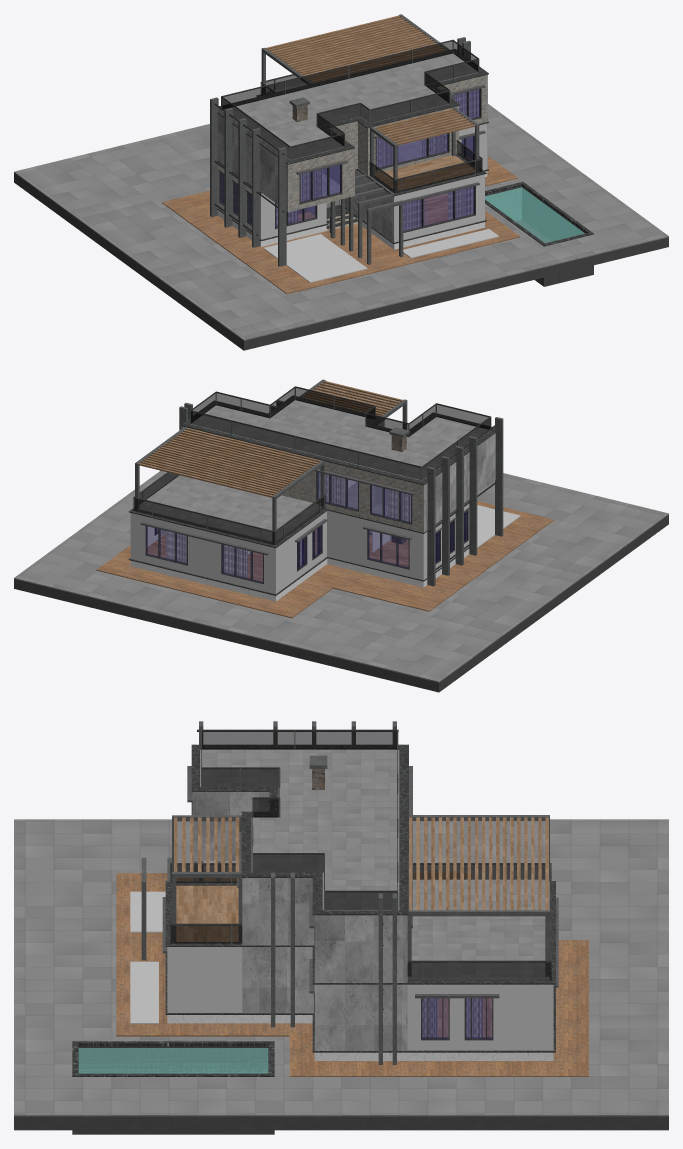
3 renders of one model, top to bottom at view 1: azimuth 30°, elevation 25°; view 2: azimuth 150°, elevation 25°; view 3: azimuth 270°, elevation 25°, orthographic. The views are drawn at different scales.
Parts seen in each view (by area): view 1: Rectangle002, Line006, Line010, Line042, Rectangle001, Line002, Line001, Box002, Line041, Box005, Box003, Object002_18 - Rubber_0 (+24 smaller); view 2: Rectangle002, Line006, Line010, Line001, Line042, Rectangle001, Box034, Line002, Line041, Line038, Object002_18 - Rubber_0, Line011 (+23 smaller); view 3: Rectangle002, Line006, Line010, Line001, Object005_18 - Rubber_0, Box034, Rectangle001, Object004_18 - Rubber_0, Line042, Box002, Line041, Box003 (+25 smaller).
Part boxes in pixels (x1,y1,x2,y2): Rectangle002: (14,104,668,340); Line006: (222,53,477,160); Line010: (162,156,520,294); Line042: (222,41,478,159); Rectangle001: (14,173,668,350); Line002: (288,75,487,211); Line001: (218,123,487,242); Box002: (485,186,593,286); Line041: (217,49,488,164); Box005: (263,234,367,282); Box003: (485,187,584,243); Object002_18 - Rubber_0: (217,113,288,211); Rectangle002: (14,470,668,682); Line006: (191,400,490,480); Line010: (96,501,553,618); Line001: (130,501,469,594); Line042: (191,388,490,479); Rectangle001: (14,515,668,692); Box034: (138,475,322,543); Line002: (181,420,423,532); Line041: (180,395,495,485); Line038: (133,473,325,544); Object002_18 - Rubber_0: (423,433,495,532); Line011: (130,549,469,601); Rectangle002: (14,819,668,1116); Line006: (200,749,399,910); Line010: (116,873,588,1076); Line001: (167,947,553,1050); Object005_18 - Rubber_0: (314,915,407,1050); Box034: (407,879,549,980); Rectangle001: (14,1116,668,1130); Object004_18 - Rubber_0: (242,878,314,1013); Line042: (202,731,396,909); Box002: (72,1046,274,1134); Line041: (191,744,408,915); Box003: (78,1048,268,1073).
Bounding box in the file's own units: 30.42 × 11.01 × 28.48.
